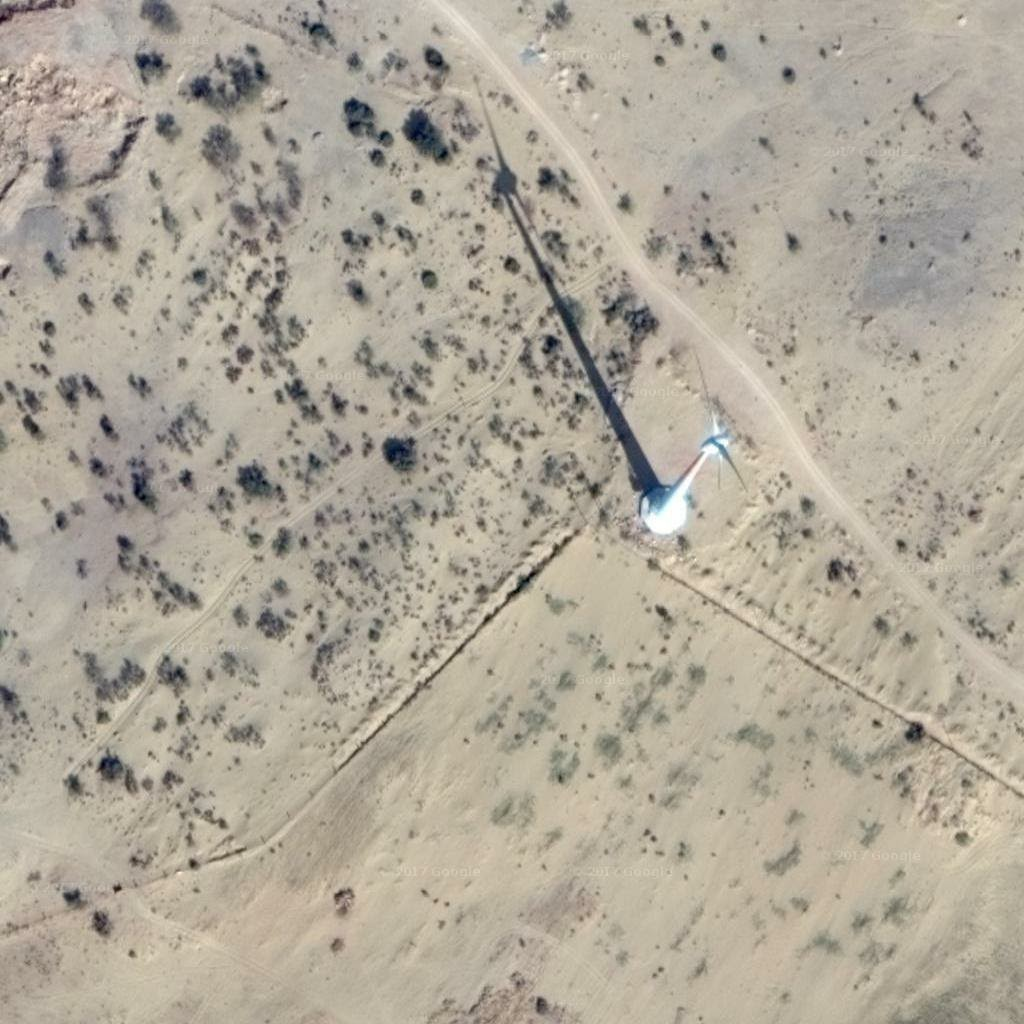Windmill: (459, 79, 670, 491)
